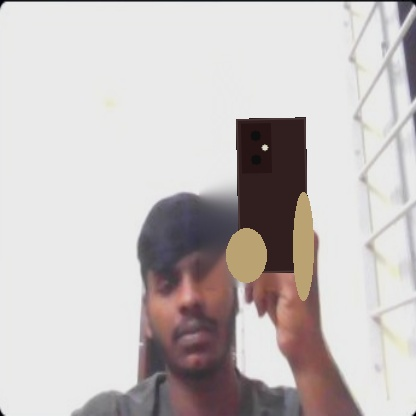cell_phone: (236, 117, 309, 273)
